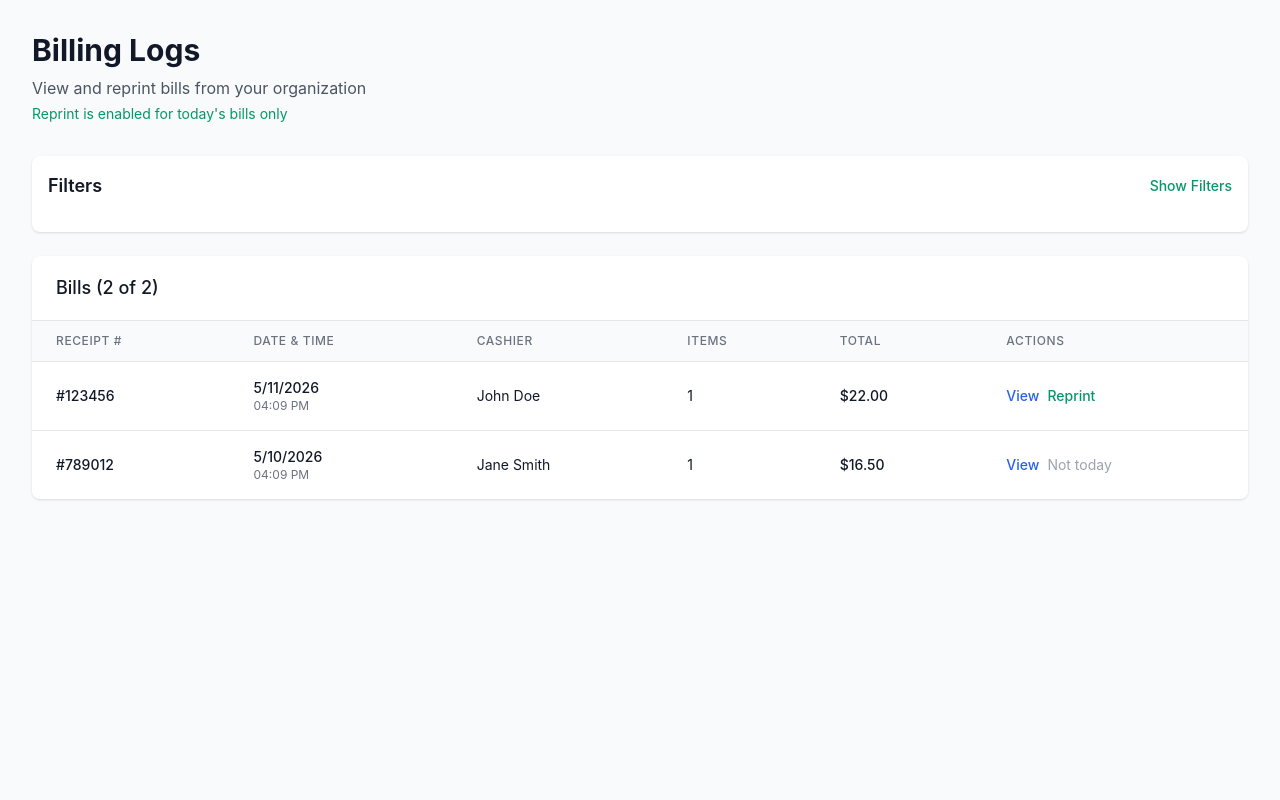
Test case: BillingLogsPage › filters work correctly
Step 1. Click the button "Show Filters" → (1191, 186), box x1=1150 y1=176 x2=1232 y2=196
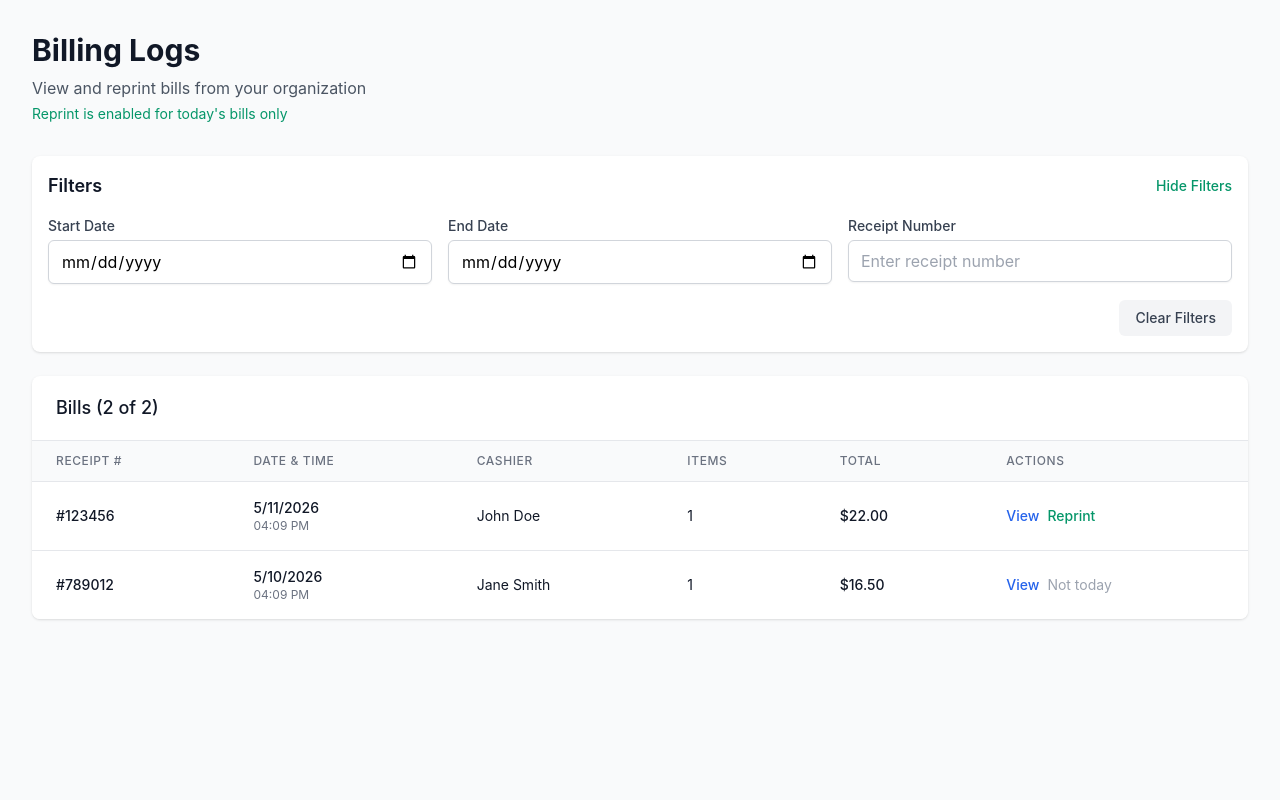
Note: Filter by receipt number
Step 2. Type "123456" into the field with placeholder "Enter receipt number" → (1040, 261), box x1=848 y1=240 x2=1232 y2=282
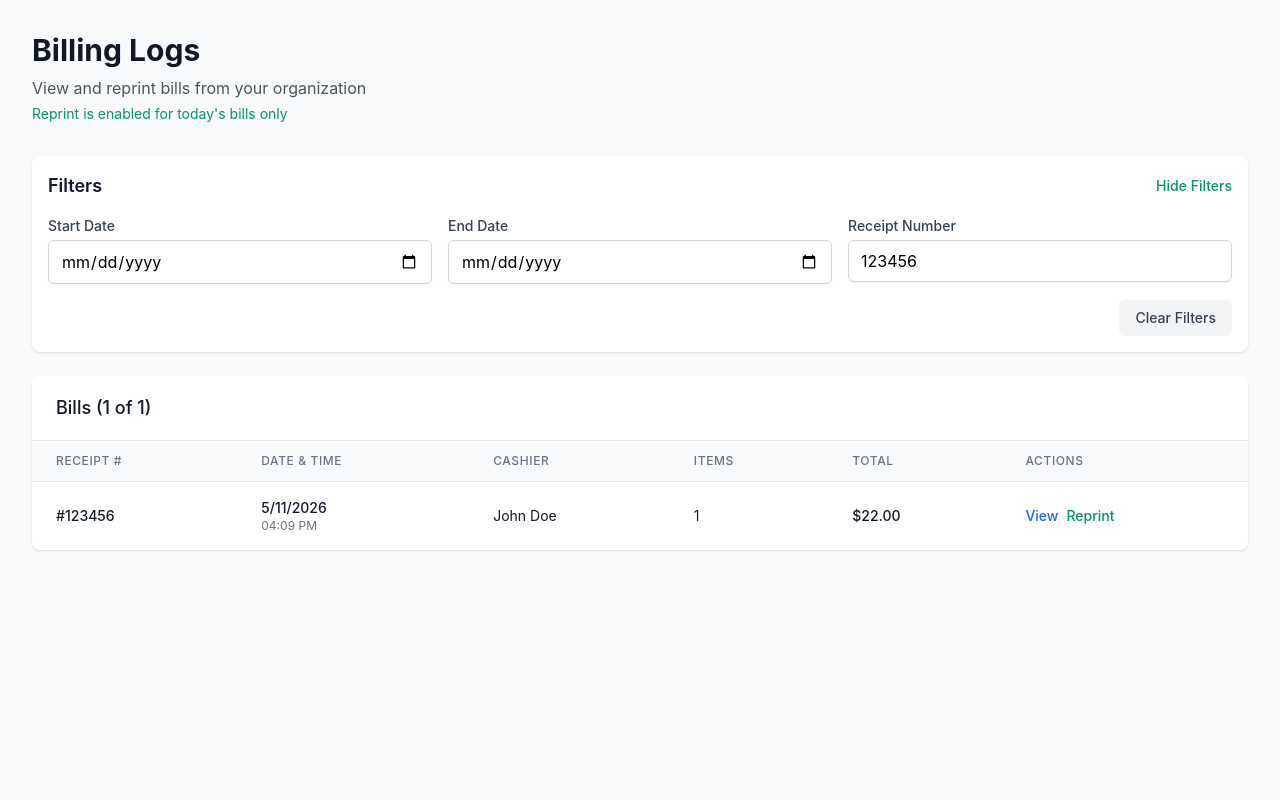
Expected: the text "#123456" is shown, x1=32 y1=482 x2=237 y2=550
Result: the text "#789012" is gone
